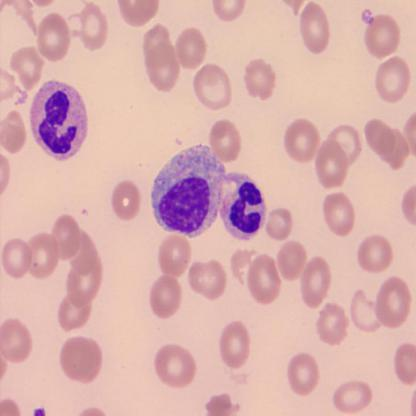Myelocyte: (152, 144, 222, 238), (226, 179, 266, 238)
